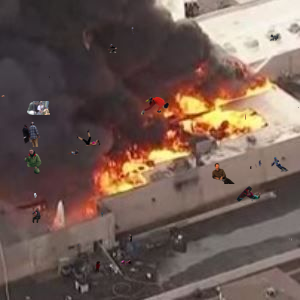Human: (255, 157, 289, 172), (141, 97, 169, 115), (22, 121, 41, 147), (212, 163, 235, 184), (24, 148, 42, 174), (76, 129, 101, 146), (236, 186, 262, 202), (86, 258, 113, 273), (27, 101, 50, 115), (32, 208, 41, 223), (106, 44, 117, 53), (67, 148, 79, 156), (120, 259, 133, 266), (270, 33, 280, 41), (129, 234, 132, 244), (131, 26, 134, 34), (34, 193, 37, 198), (101, 212, 103, 217), (289, 238, 292, 241), (88, 33, 90, 37), (1, 95, 5, 97), (245, 114, 246, 120), (250, 166, 252, 169), (78, 244, 80, 246), (49, 76, 50, 79), (298, 107, 299, 108)
